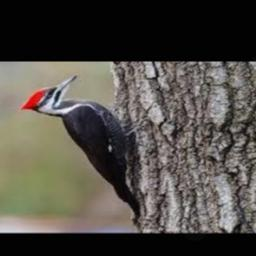Woodpecker: (19, 74, 145, 223)
